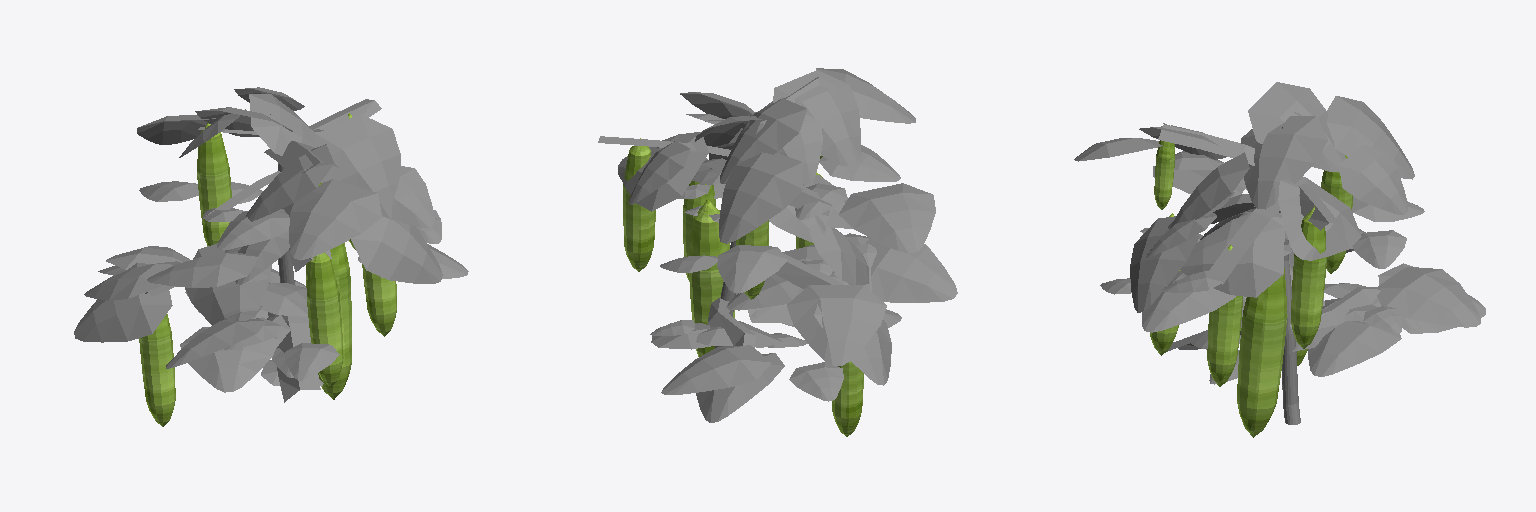
3 views of the same model, side by side, from view 1: azimuth 30°, elevation 25°; view 2: azimuth 150°, elevation 25°; view 3: azimuth 270°, elevation 25° (orthographic).
Visible parts, largest first — view 1: Default_Layer; view 2: Default_Layer; view 3: Default_Layer.
Boxes of the visible parts, x1,y1,x2,y2 form: Default_Layer: [74, 87, 468, 426]; Default_Layer: [598, 68, 957, 436]; Default_Layer: [1074, 82, 1485, 437].
Size of the model in its own units: 2036 by 2036 by 2450.
Materials: 3 (1 with a texture image).